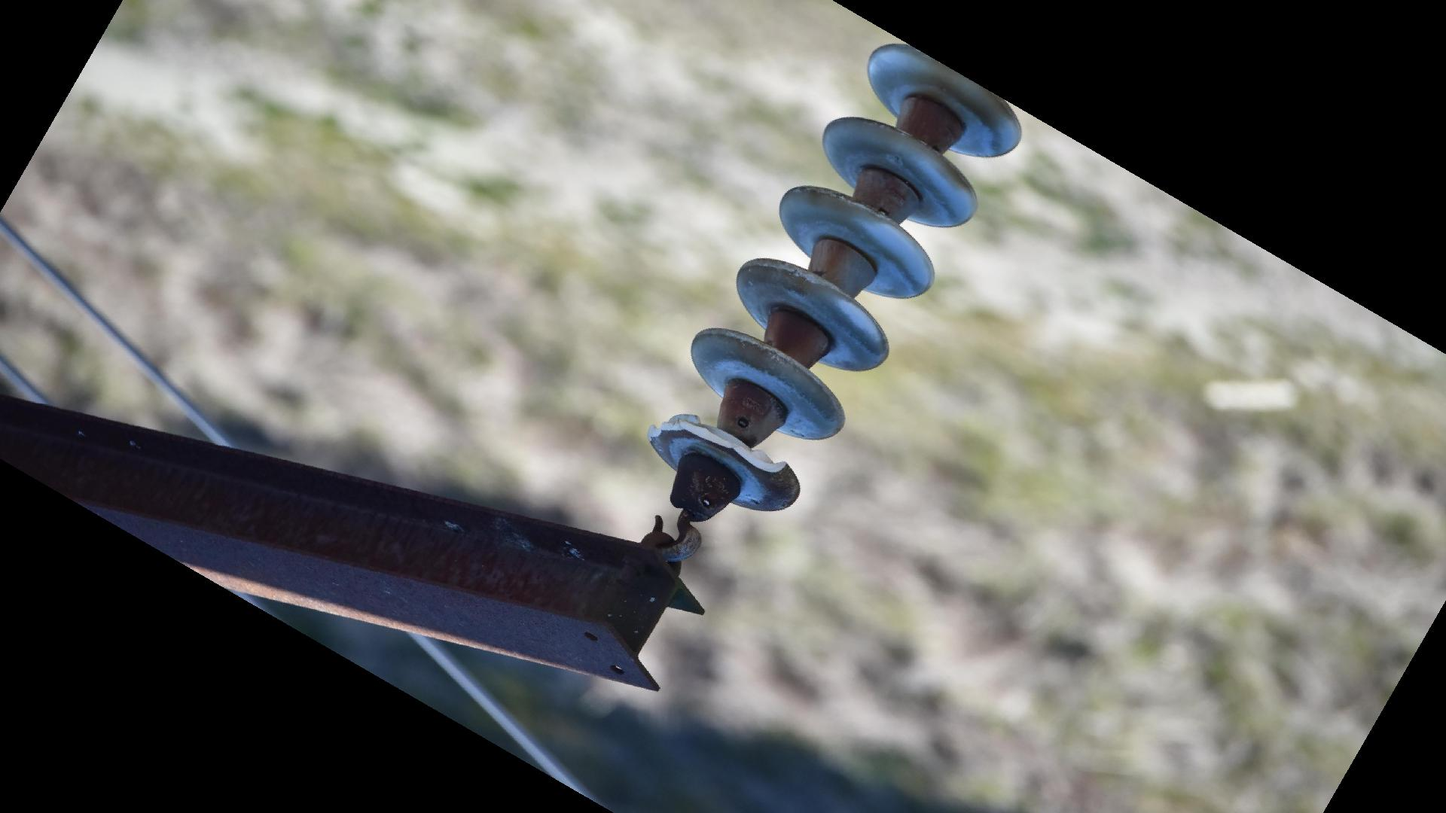insulator: (642, 37, 1030, 518)
insulator_breakage: (643, 408, 796, 482)
